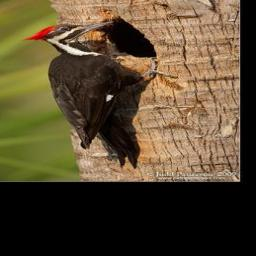Woodpecker: (21, 21, 179, 169)
